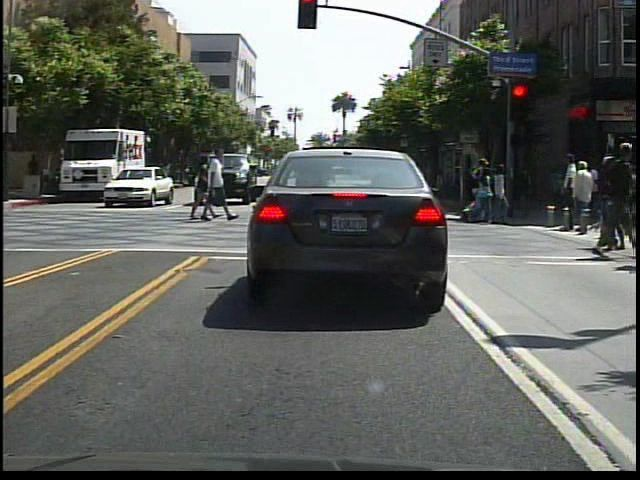person: (588, 136, 640, 258), (562, 157, 598, 240), (198, 152, 233, 228), (321, 155, 354, 216)
